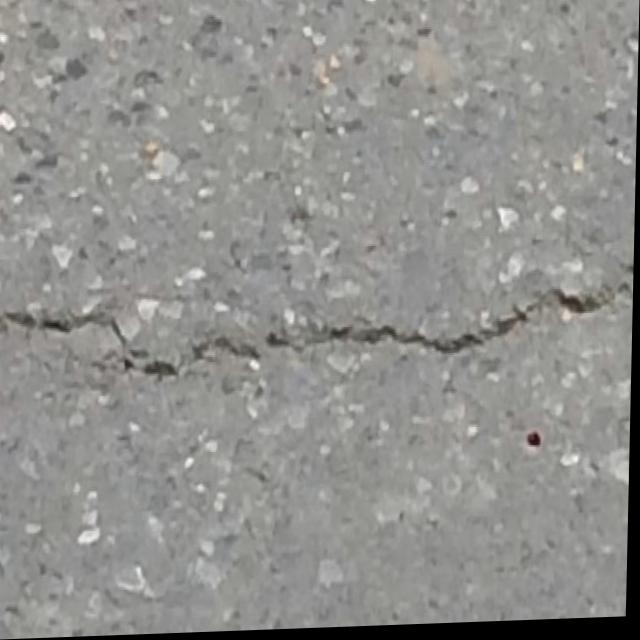Crack: (0, 230, 636, 398)
